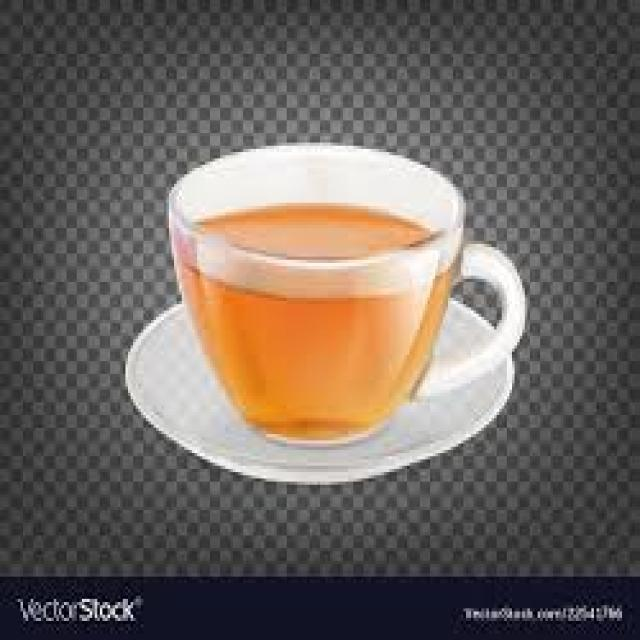taza: (156, 140, 540, 452)
